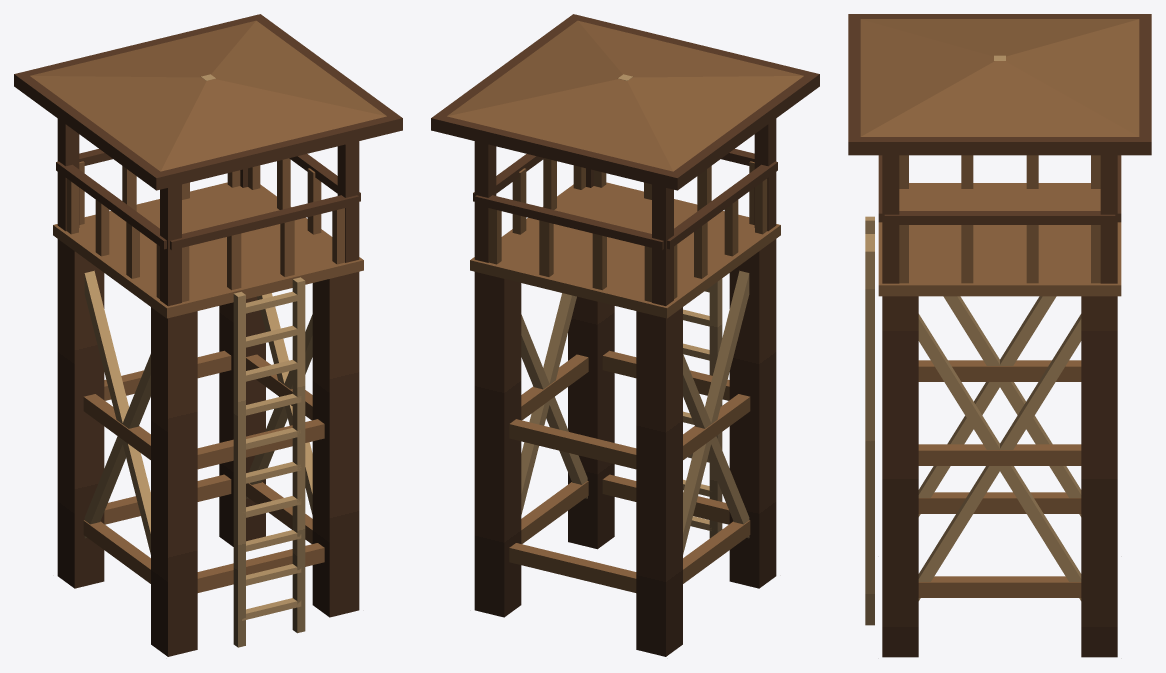
File: watchtower_wood.glb
3 views of the same model, side by side, from view 1: azimuth 30°, elevation 25°; view 2: azimuth 150°, elevation 25°; view 3: azimuth 270°, elevation 25° (orthographic). The views are drawn at different scales.
Bounding box in the file's own units: 2.5 × 5 × 2.5.
Materials: 1 (1 with a texture image).
